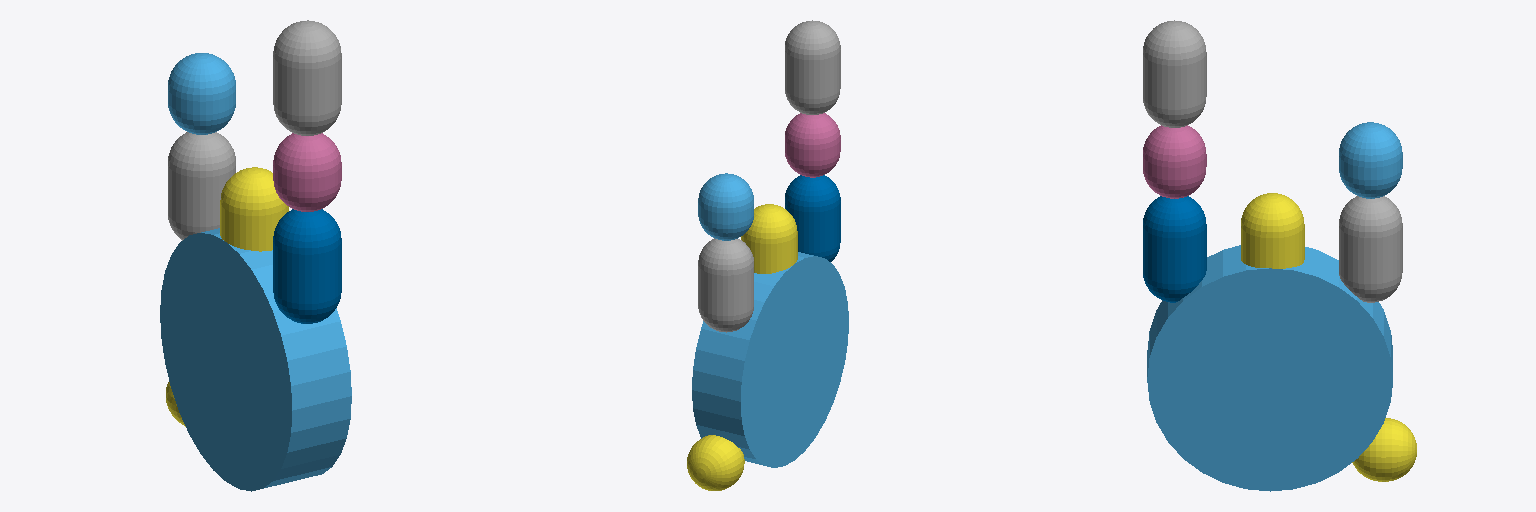
The robot description file, URDF, robot "DexterousHand":
<?xml version="1.0"?>
<robot name="DexterousHand">


    <link name="world"/>
    <joint name="world_to_palm" type="fixed">
        <parent link="world"/>
        <child link="palm"/>
        <origin xyz="0 0 0" rpy="0 0 0"/>
    </joint>
    <link name="palm">
        <inertial>
            <origin xyz="0 0 0.057" rpy="0 0 0"/>
            <mass value="0.30212892864"/>
            <inertia ixx="0.00049080844457568" ixy="0.0" ixz="0.0" iyy="0.00026746366246427523" iyz="0.0" izz="0.00026746366246427523"/>
        </inertial>
        <visual>
            <origin xyz="0 0 0.057" rpy="1.5708 0 1.5708"/>
            <geometry>
                <cylinder radius="0.057" length="0.0296"/>
            </geometry>
            <material name="default"/>
        </visual>
        <collision>
            <origin xyz="0 0 0.057" rpy="1.5708 0 1.5708"/>
            <geometry>
                <cylinder radius="0.057" length="0.0296"/>
            </geometry>
        </collision>
    </link>

    
    <joint name="thumb_joint1" type="revolute">
        <parent link="palm"/>
        <child link="thumb_base"/>
        <origin xyz="0.0029 0.0368 0.0157" rpy="-1.5708 -1.5708 0.0"/>
        <axis xyz="-1 0 0"/>
        <limit lower="-0.349" upper="2.094" effort="1.0" velocity="1.0"/>
    </joint>

    <link name="thumb_base"></link>

    <joint name="thumb_joint2" type="revolute">
        <parent link="thumb_base"/>
        <child link="thumb_proximal"/>
        <origin xyz="0.0 0.0 0.0" rpy="0.0 0.0 0.0"/>
        <axis xyz="0 0 1"/>
        <limit lower="-0.47" upper="2.443" effort="1.0" velocity="1.0"/>
    </joint>

    <link name="thumb_proximal">
        <inertial>
            <origin xyz="0 0 0.01565" rpy="0 0 0"/>
            <mass value="0.021538658803200002"/>
            <inertia ixx="2.9378910096388167e-06" ixy="0.0" ixz="0.0" 
            iyy="2.9378910096388167e-06" iyz="0.0" izz="2.358913912126464e-06"/>
        </inertial>
        <visual>
            <origin xyz="0 0 0.01565" rpy="0 0 0"/>
            <geometry>
                <cylinder radius="0.0148" length="0.0017000000000000001"/>
            </geometry>
            <material name="default"/>
        </visual>
        <visual>
            <origin xyz="0 0 0.0148" rpy="0 0 0"/>
            <geometry>
                <sphere radius="0.0148"/>
            </geometry>
            <material name="default"/>
        </visual>
        <visual>
            <origin xyz="0 0 0.0165" rpy="0 0 0"/>
            <geometry>
                <sphere radius="0.0148"/>
            </geometry>
            <material name="default"/>
        </visual>
        <collision>
            <origin xyz="0 0 0.01565" rpy="0 0 0"/>
            <geometry>
                <cylinder radius="0.0148" length="0.0017000000000000001"/>
            </geometry>
        </collision>
        <collision>
            <origin xyz="0 0 0.0148" rpy="0 0 0"/>
            <geometry>
                <sphere radius="0.0148"/>
            </geometry>
        </collision>
        <collision>
            <origin xyz="0 0 0.0165" rpy="0 0 0"/>
            <geometry>
                <sphere radius="0.0148"/>
            </geometry>
        </collision>
    </link>

    <joint name="thumb_joint3" type="revolute">
        <parent link="thumb_proximal"/>
        <child link="thumb_knuckle"/>
        <origin xyz="0.0 0.0 0.0" rpy="0.0 0.0 0.0"/>
        <axis xyz="1 0 0"/>
        <limit lower="0.0" upper="0.0" effort="1.0" velocity="1.0"/>
    </joint>

    <link name="thumb_knuckle"></link>

    <joint name="thumb_joint4" type="revolute">
        <parent link="thumb_knuckle"/>
        <child link="thumb_middle"/>
        <origin xyz="0 0 0" rpy="0 0 0"/> 
        <axis xyz="0 1 0"/>
        <limit lower="0.0" upper="0.0" effort="1.0" velocity="1.0"/>
    </joint>

    <link name="thumb_middle">
    </link>

    <joint name="thumb_joint5" type="revolute">
        <parent link="thumb_middle"/>
        <child link="thumb_distal"/>
        <origin xyz="0 0 0" rpy="0 0 0"/> 
        <axis xyz="0 1 0"/>
        <limit lower="0.0" upper="0.0" effort="1.0" velocity="1.0"/>
    </joint>

    <link name="thumb_distal">
    </link>

    
    <joint name="index_joint1" type="revolute">
        <parent link="palm"/>
        <child link="index_proximal"/>
        <origin xyz="0.0 0.0465 0.091" rpy="0.0 0.0 0.0"/>
        <axis xyz="0 1 0"/>
        <limit lower="-0.314" upper="2.23" effort="1.0" velocity="1.0"/>
    </joint>

    <link name="index_proximal">
        <inertial>
            <origin xyz="0 0 0.02655" rpy="0 0 0"/>
            <mass value="0.036540024998400006"/>
            <inertia ixx="1.058665009272394e-05" ixy="0.0" ixz="0.0" 
            iyy="1.058665009272394e-05" iyz="0.0" izz="4.001863537824769e-06"/>
        </inertial>
        <visual>
            <origin xyz="0 0 0.02655" rpy="0 0 0"/>
            <geometry>
                <cylinder radius="0.0148" length="0.0235"/>
            </geometry>
            <material name="default"/>
        </visual>
        <visual>
            <origin xyz="0 0 0.0148" rpy="0 0 0"/>
            <geometry>
                <sphere radius="0.0148"/>
            </geometry>
            <material name="default"/>
        </visual>
        <visual>
            <origin xyz="0 0 0.0383" rpy="0 0 0"/>
            <geometry>
                <sphere radius="0.0148"/>
            </geometry>
            <material name="default"/>
        </visual>
        <collision>
            <origin xyz="0 0 0.02655" rpy="0 0 0"/>
            <geometry>
                <cylinder radius="0.0148" length="0.0235"/>
            </geometry>
        </collision>
        <collision>
            <origin xyz="0 0 0.0148" rpy="0 0 0"/>
            <geometry>
                <sphere radius="0.0148"/>
            </geometry>
        </collision>
        <collision>
            <origin xyz="0 0 0.0383" rpy="0 0 0"/>
            <geometry>
                <sphere radius="0.0148"/>
            </geometry>
        </collision>
    </link>

    <joint name="index_joint2" type="revolute">
        <parent link="index_proximal"/>
        <child link="index_dummy"/>
        <origin xyz="0.0 0.0 0.038" rpy="0.0 0.0 0.0"/>
        <axis xyz="1 0 0"/>
        <limit lower="-1.047" upper="1.047" effort="1.0" velocity="1.0"/>
    </joint>

    <link name="index_dummy"></link>

    <joint name="index_joint3" type="revolute">
        <parent link="index_dummy"/>
        <child link="index_middle"/>
        <origin xyz="0 0 0.015100000000000002" rpy="0 0 0"/>
        <axis xyz="0 1 0"/>
        <limit lower="-0.506" upper="1.885" effort="1.0" velocity="1.0"/>
    </joint>

    <link name="index_middle">
        <inertial>
            <origin xyz="0 0 0.01805" rpy="0 0 0"/>
            <mass value="0.0248417119104"/>
            <inertia ixx="4.058162759109537e-06" ixy="0.0" ixz="0.0" 
            iyy="4.058162759109537e-06" iyz="0.0" izz="2.7206642884270085e-06"/>
        </inertial>
        <visual>
            <origin xyz="0 0 0.01805" rpy="0 0 0"/>
            <geometry>
                <cylinder radius="0.0148" length="0.006499999999999999"/>
            </geometry>
            <material name="default"/>
        </visual>
        <visual>
            <origin xyz="0 0 0.0148" rpy="0 0 0"/>
            <geometry>
                <sphere radius="0.0148"/>
            </geometry>
            <material name="default"/>
        </visual>
        <visual>
            <origin xyz="0 0 0.0213" rpy="0 0 0"/>
            <geometry>
                <sphere radius="0.0148"/>
            </geometry>
            <material name="default"/>
        </visual>
        <collision>
            <origin xyz="0 0 0.01805" rpy="0 0 0"/>
            <geometry>
                <cylinder radius="0.0148" length="0.006499999999999999"/>
            </geometry>
        </collision>
        <collision>
            <origin xyz="0 0 0.0148" rpy="0 0 0"/>
            <geometry>
                <sphere radius="0.0148"/>
            </geometry>
        </collision>
        <collision>
            <origin xyz="0 0 0.0213" rpy="0 0 0"/>
            <geometry>
                <sphere radius="0.0148"/>
            </geometry>
        </collision>
    </link>

    <joint name="index_joint4" type="revolute">
        <parent link="index_middle"/>
        <child link="index_distal"/>
        <origin xyz="0 0 0.0361" rpy="0 0 0"/> 
        <axis xyz="0 1 0"/>
        <limit lower="0.0" upper="0.0" effort="1.0" velocity="1.0"/>
    </joint>

    <link name="index_distal">
    </link>

    
    <joint name="middle_joint1" type="revolute">
        <parent link="palm"/>
        <child link="middle_proximal"/>
        <origin xyz="0.0 0.0011 0.091" rpy="0.0 0.0 0.0"/>
        <axis xyz="0 1 0"/>
        <limit lower="-0.314" upper="2.23" effort="1.0" velocity="1.0"/>
    </joint>

    <link name="middle_proximal">
        <inertial>
            <origin xyz="0 0 0.02655" rpy="0 0 0"/>
            <mass value="0.036540024998400006"/>
            <inertia ixx="1.058665009272394e-05" ixy="0.0" ixz="0.0" 
            iyy="1.058665009272394e-05" iyz="0.0" izz="4.001863537824769e-06"/>
        </inertial>
        <visual>
            <origin xyz="0 0 0.02655" rpy="0 0 0"/>
            <geometry>
                <cylinder radius="0.0148" length="0.0235"/>
            </geometry>
            <material name="default"/>
        </visual>
        <visual>
            <origin xyz="0 0 0.0148" rpy="0 0 0"/>
            <geometry>
                <sphere radius="0.0148"/>
            </geometry>
            <material name="default"/>
        </visual>
        <visual>
            <origin xyz="0 0 0.0383" rpy="0 0 0"/>
            <geometry>
                <sphere radius="0.0148"/>
            </geometry>
            <material name="default"/>
        </visual>
        <collision>
            <origin xyz="0 0 0.02655" rpy="0 0 0"/>
            <geometry>
                <cylinder radius="0.0148" length="0.0235"/>
            </geometry>
        </collision>
        <collision>
            <origin xyz="0 0 0.0148" rpy="0 0 0"/>
            <geometry>
                <sphere radius="0.0148"/>
            </geometry>
        </collision>
        <collision>
            <origin xyz="0 0 0.0383" rpy="0 0 0"/>
            <geometry>
                <sphere radius="0.0148"/>
            </geometry>
        </collision>
    </link>

    <joint name="middle_joint2" type="revolute">
        <parent link="middle_proximal"/>
        <child link="middle_dummy"/>
        <origin xyz="0.0 0.0 0.038" rpy="0.0 0.0 0.0"/>
        <axis xyz="0 1 0"/>
        <limit lower="0.0" upper="0.0" effort="1.0" velocity="1.0"/>
    </joint>

    <link name="middle_dummy"></link>

    <joint name="middle_joint3" type="revolute">
        <parent link="middle_dummy"/>
        <child link="middle_middle"/>
        <origin xyz="0 0 0.015100000000000002" rpy="0 0 0"/>
        <axis xyz="0 1 0"/>
        <limit lower="0.0" upper="0.0" effort="1.0" velocity="1.0"/>
    </joint>

    <link name="middle_middle">
    </link>

    <joint name="middle_joint4" type="revolute">
        <parent link="middle_middle"/>
        <child link="middle_distal"/>
        <origin xyz="0 0 0" rpy="0 0 0"/> 
        <axis xyz="0 1 0"/>
        <limit lower="0.0" upper="0.0" effort="1.0" velocity="1.0"/>
    </joint>

    <link name="middle_distal">
    </link>

    
    <joint name="ring_joint1" type="revolute">
        <parent link="palm"/>
        <child link="ring_proximal"/>
        <origin xyz="0.0 0.0 0.0" rpy="0.0 0.0 0.0"/>
        <axis xyz="1 0 0"/>
        <limit lower="0.0" upper="0.0" effort="1.0" velocity="1.0"/>
    </joint>

    <link name="ring_proximal">
    </link>

    <joint name="ring_joint2" type="revolute">
        <parent link="ring_proximal"/>
        <child link="ring_dummy"/>
        <origin xyz="0.0 0.0 0.0" rpy="0.0 0.0 0.0"/>
        <axis xyz="0 1 0"/>
        <limit lower="0.0" upper="0.0" effort="1.0" velocity="1.0"/>
    </joint>

    <link name="ring_dummy"></link>

    <joint name="ring_joint3" type="revolute">
        <parent link="ring_dummy"/>
        <child link="ring_middle"/>
        <origin xyz="0 0 0" rpy="0 0 0"/>
        <axis xyz="0 1 0"/>
        <limit lower="0.0" upper="0.0" effort="1.0" velocity="1.0"/>
    </joint>

    <link name="ring_middle">
    </link>

    <joint name="ring_joint4" type="revolute">
        <parent link="ring_middle"/>
        <child link="ring_distal"/>
        <origin xyz="0 0 0" rpy="0 0 0"/> 
        <axis xyz="0 1 0"/>
        <limit lower="0.0" upper="0.0" effort="1.0" velocity="1.0"/>
    </joint>

    <link name="ring_distal">
    </link>

    
    <joint name="little_joint0" type="revolute">
        <parent link="palm"/>
        <child link="little_base"/>
        <origin xyz="0.0 0.0 0.0" rpy="0.0 0.0 0.0"/>
        <axis xyz="0 1 0"/>
        <limit lower="0.0" upper="0.0" effort="1.0" velocity="1.0"/>
    </joint>

    <link name="little_base"></link>

    <joint name="little_joint1" type="revolute">
        <parent link="little_base"/>
        <child link="little_proximal"/>
        <origin xyz="0.0 -0.0443 0.091" rpy="-0.0 -0.0 -0.0"/>
        <axis xyz="0 1 0"/>
        <limit lower="-0.314" upper="2.23" effort="1.0" velocity="1.0"/>
    </joint>

    <link name="little_proximal">
        <inertial>
            <origin xyz="0 0 0.02655" rpy="0 0 0"/>
            <mass value="0.036540024998400006"/>
            <inertia ixx="1.058665009272394e-05" ixy="0.0" ixz="0.0" 
            iyy="1.058665009272394e-05" iyz="0.0" izz="4.001863537824769e-06"/>
        </inertial>
        <visual>
            <origin xyz="0 0 0.02655" rpy="0 0 0"/>
            <geometry>
                <cylinder radius="0.0148" length="0.0235"/>
            </geometry>
            <material name="default"/>
        </visual>
        <visual>
            <origin xyz="0 0 0.0148" rpy="0 0 0"/>
            <geometry>
                <sphere radius="0.0148"/>
            </geometry>
            <material name="default"/>
        </visual>
        <visual>
            <origin xyz="0 0 0.0383" rpy="0 0 0"/>
            <geometry>
                <sphere radius="0.0148"/>
            </geometry>
            <material name="default"/>
        </visual>
        <collision>
            <origin xyz="0 0 0.02655" rpy="0 0 0"/>
            <geometry>
                <cylinder radius="0.0148" length="0.0235"/>
            </geometry>
        </collision>
        <collision>
            <origin xyz="0 0 0.0148" rpy="0 0 0"/>
            <geometry>
                <sphere radius="0.0148"/>
            </geometry>
        </collision>
        <collision>
            <origin xyz="0 0 0.0383" rpy="0 0 0"/>
            <geometry>
                <sphere radius="0.0148"/>
            </geometry>
        </collision>
    </link>

    <joint name="little_joint2" type="revolute">
        <parent link="little_proximal"/>
        <child link="little_dummy"/>
        <origin xyz="0.0 0.0 0.038" rpy="0.0 0.0 0.0"/>
        <axis xyz="1 0 0"/>
        <limit lower="-1.047" upper="1.047" effort="1.0" velocity="1.0"/>
    </joint>

    <link name="little_dummy"></link>

    <joint name="little_joint3" type="revolute">
        <parent link="little_dummy"/>
        <child link="little_middle"/>
        <origin xyz="0 0 0.015100000000000002" rpy="0 0 0"/>
        <axis xyz="0 1 0"/>
        <limit lower="-0.506" upper="1.885" effort="1.0" velocity="1.0"/>
    </joint>

    <link name="little_middle">
        <inertial>
            <origin xyz="0 0 0.01805" rpy="0 0 0"/>
            <mass value="0.0248417119104"/>
            <inertia ixx="4.058162759109537e-06" ixy="0.0" ixz="0.0" 
            iyy="4.058162759109537e-06" iyz="0.0" izz="2.7206642884270085e-06"/>
        </inertial>
        <visual>
            <origin xyz="0 0 0.01805" rpy="0 0 0"/>
            <geometry>
                <cylinder radius="0.0148" length="0.006499999999999999"/>
            </geometry>
            <material name="default"/>
        </visual>
        <visual>
            <origin xyz="0 0 0.0148" rpy="0 0 0"/>
            <geometry>
                <sphere radius="0.0148"/>
            </geometry>
            <material name="default"/>
        </visual>
        <visual>
            <origin xyz="0 0 0.0213" rpy="0 0 0"/>
            <geometry>
                <sphere radius="0.0148"/>
            </geometry>
            <material name="default"/>
        </visual>
        <collision>
            <origin xyz="0 0 0.01805" rpy="0 0 0"/>
            <geometry>
                <cylinder radius="0.0148" length="0.006499999999999999"/>
            </geometry>
        </collision>
        <collision>
            <origin xyz="0 0 0.0148" rpy="0 0 0"/>
            <geometry>
                <sphere radius="0.0148"/>
            </geometry>
        </collision>
        <collision>
            <origin xyz="0 0 0.0213" rpy="0 0 0"/>
            <geometry>
                <sphere radius="0.0148"/>
            </geometry>
        </collision>
    </link>

    <joint name="little_joint4" type="revolute">
        <parent link="little_middle"/>
        <child link="little_distal"/>
        <origin xyz="0 0 0.0361" rpy="0 0 0"/>
        <axis xyz="0 1 0"/>
        <limit lower="-0.366" upper="2.042" effort="1.0" velocity="1.0"/>
    </joint>

    <link name="little_distal">
        <inertial>
            <origin xyz="0 0 0.026" rpy="0 0 0"/>
            <mass value="0.035783075328"/>
            <inertia ixx="1.002260084553728e-05" ixy="0.0" ixz="0.0" 
            iyy="1.002260084553728e-05" iyz="0.0" izz="3.91896240992256e-06"/>
        </inertial>
        <visual>
            <origin xyz="0 0 0.026" rpy="0 0 0"/>
            <geometry>
                <cylinder radius="0.0148" length="0.022399999999999996"/>
            </geometry>
            <material name="default"/>
        </visual>
        <visual>
            <origin xyz="0 0 0.0148" rpy="0 0 0"/>
            <geometry>
                <sphere radius="0.0148"/>
            </geometry>
            <material name="default"/>
        </visual>
        <visual>
            <origin xyz="0 0 0.0372" rpy="0 0 0"/>
            <geometry>
                <sphere radius="0.0148"/>
            </geometry>
            <material name="default"/>
        </visual>
        <collision>
            <origin xyz="0 0 0.026" rpy="0 0 0"/>
            <geometry>
                <cylinder radius="0.0148" length="0.022399999999999996"/>
            </geometry>
        </collision>
        <collision>
            <origin xyz="0 0 0.0148" rpy="0 0 0"/>
            <geometry>
                <sphere radius="0.0148"/>
            </geometry>
        </collision>
        <collision>
            <origin xyz="0 0 0.0372" rpy="0 0 0"/>
            <geometry>
                <sphere radius="0.0148"/>
            </geometry>
        </collision>
    </link>

</robot>

--- Facts derived from the render (not from the file) ---
The picture shows the robot from 3 angles, left to right: view 1: azimuth 30°, elevation 25°; view 2: azimuth 150°, elevation 25°; view 3: azimuth 270°, elevation 25°; orthographic projection.
Model DexterousHand with 24 links and 23 joints (22 revolute, 1 fixed), rooted at world, posed all joints at 0.
Links seen in each view (by area): view 1: palm, little_proximal, little_distal, index_proximal, index_middle, little_middle, middle_proximal; view 2: palm, index_proximal, little_distal, little_proximal, index_middle, little_middle, middle_proximal, thumb_proximal; view 3: palm, little_distal, index_proximal, little_proximal, middle_proximal, index_middle, little_middle, thumb_proximal.
Link boxes in pixels (bbox=[...]): palm: bbox=[160, 228, 351, 491]; little_proximal: bbox=[273, 209, 341, 323]; little_distal: bbox=[273, 20, 341, 135]; index_proximal: bbox=[168, 132, 235, 240]; index_middle: bbox=[168, 53, 235, 134]; little_middle: bbox=[273, 133, 341, 211]; middle_proximal: bbox=[220, 167, 288, 251]; palm: bbox=[692, 252, 848, 467]; index_proximal: bbox=[698, 238, 753, 332]; little_distal: bbox=[785, 20, 840, 114]; little_proximal: bbox=[785, 175, 840, 261]; index_middle: bbox=[698, 173, 753, 240]; little_middle: bbox=[785, 113, 840, 177]; middle_proximal: bbox=[741, 204, 797, 273]; thumb_proximal: bbox=[687, 435, 744, 490]; palm: bbox=[1147, 245, 1392, 491]; little_distal: bbox=[1143, 20, 1206, 127]; index_proximal: bbox=[1339, 196, 1402, 302]; little_proximal: bbox=[1143, 196, 1206, 302]; middle_proximal: bbox=[1241, 193, 1304, 268]; index_middle: bbox=[1339, 122, 1402, 198]; little_middle: bbox=[1143, 125, 1206, 198]; thumb_proximal: bbox=[1352, 418, 1416, 481].
Size in the robot's own frame: 0.0325 by 0.1272 by 0.2322 metres.
Geometry: primitives only (box / cylinder / sphere), no mesh files.
